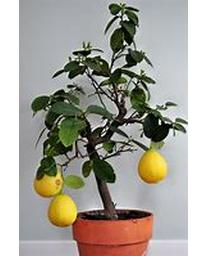lemon: (47, 193, 76, 229), (137, 151, 167, 184), (34, 171, 65, 199)
